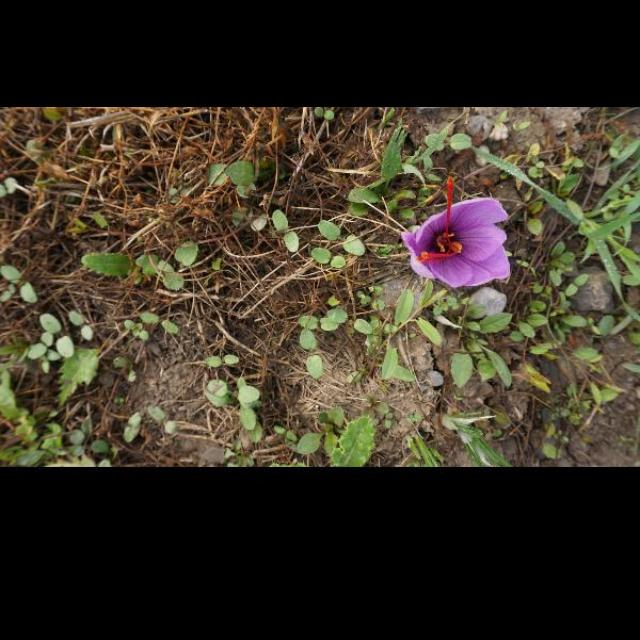flower: (400, 175, 512, 289)
